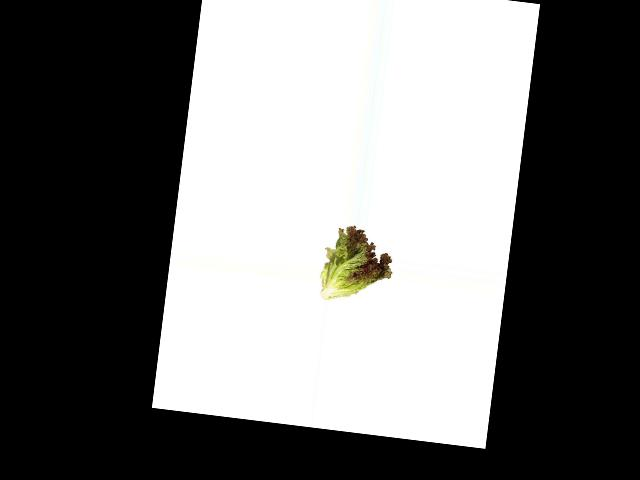lettuce: (319, 222, 396, 306)
